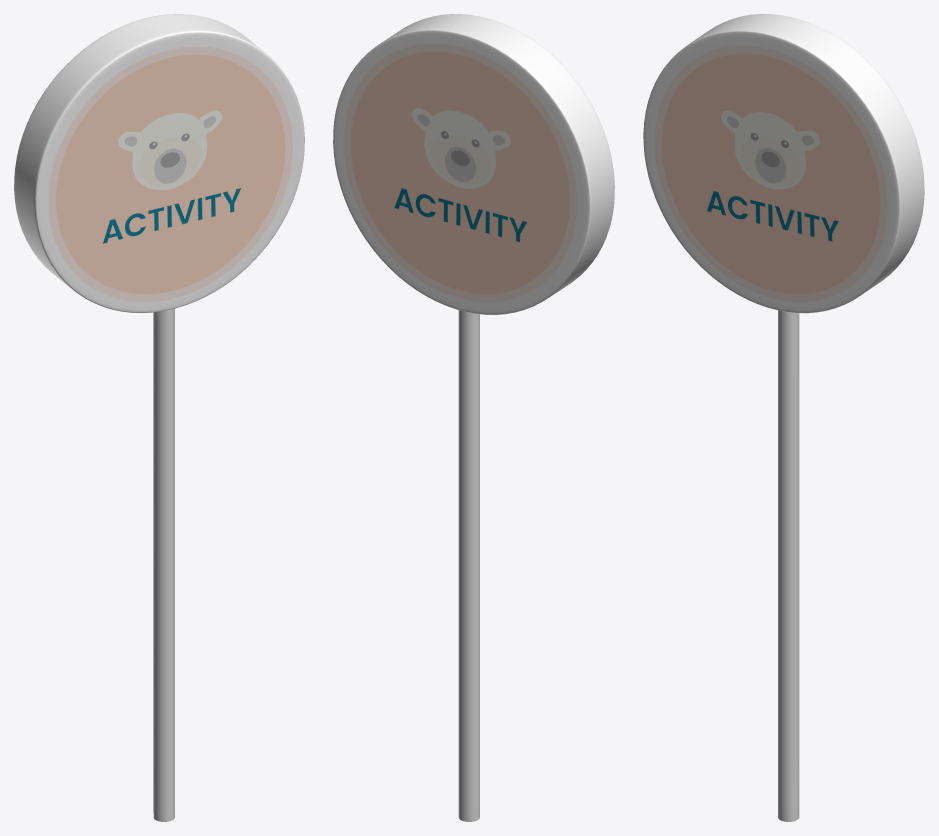
The model's file is sign.glb.
3 views of the same model, side by side, from view 1: azimuth 30°, elevation 25°; view 2: azimuth 150°, elevation 25°; view 3: azimuth 330°, elevation 25° (orthographic).
Parts seen in each view (by area): view 1: sign_geo; view 2: sign_geo; view 3: sign_geo.
Boxes of the visible parts, x1,y1,x2,y2 form: sign_geo: [14, 14, 304, 821]; sign_geo: [333, 14, 614, 821]; sign_geo: [643, 14, 924, 821].
Size of the model in its own units: 0.582 by 1.66 by 0.1128.
1 material, 1 textured.
